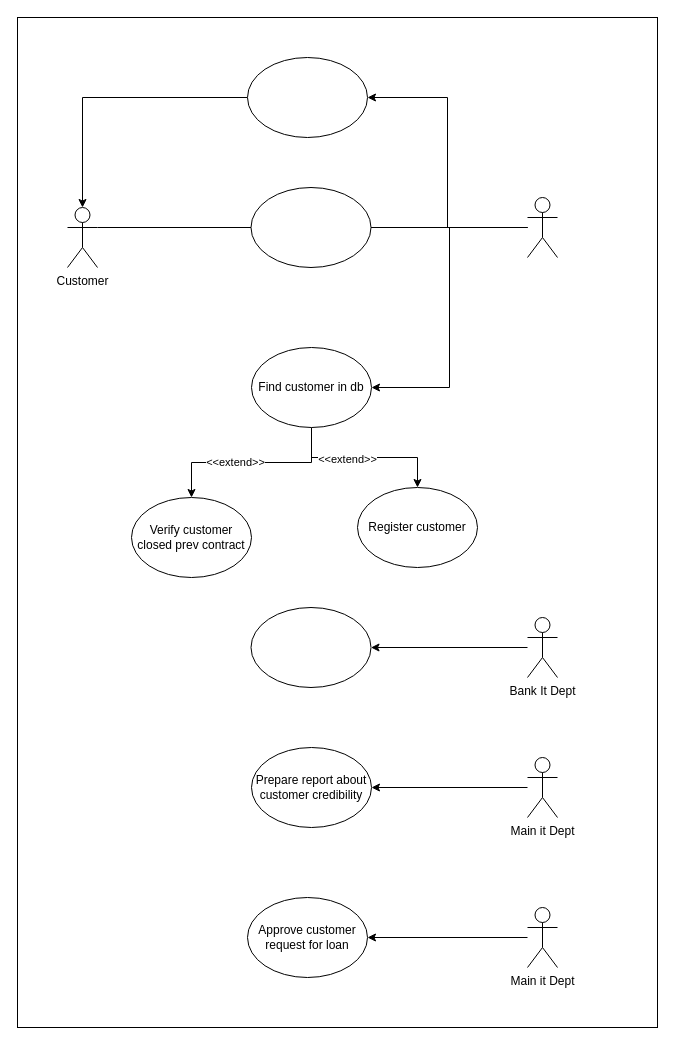
Image size: 675x1045. Some labels were removed from this diagram. The centre of each missing label's shape, as x and y in pixels:
Apply for loan: point 310,227
Employee: point 542,227
Issue Loan: point 307,97
Prepare report about customer debt in banks: point 310,647
